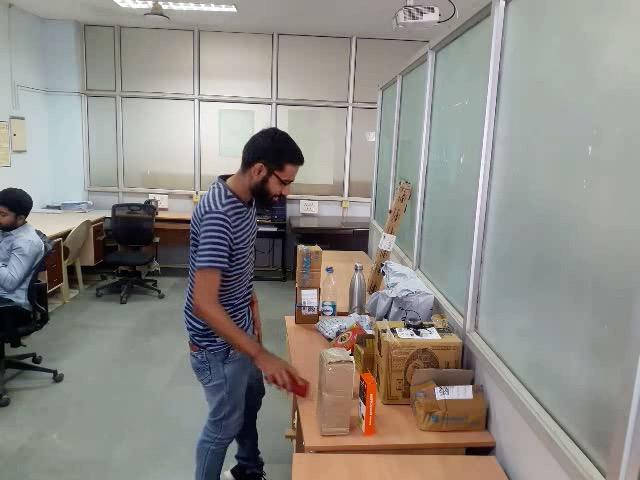Normal: (98, 64, 640, 480)
